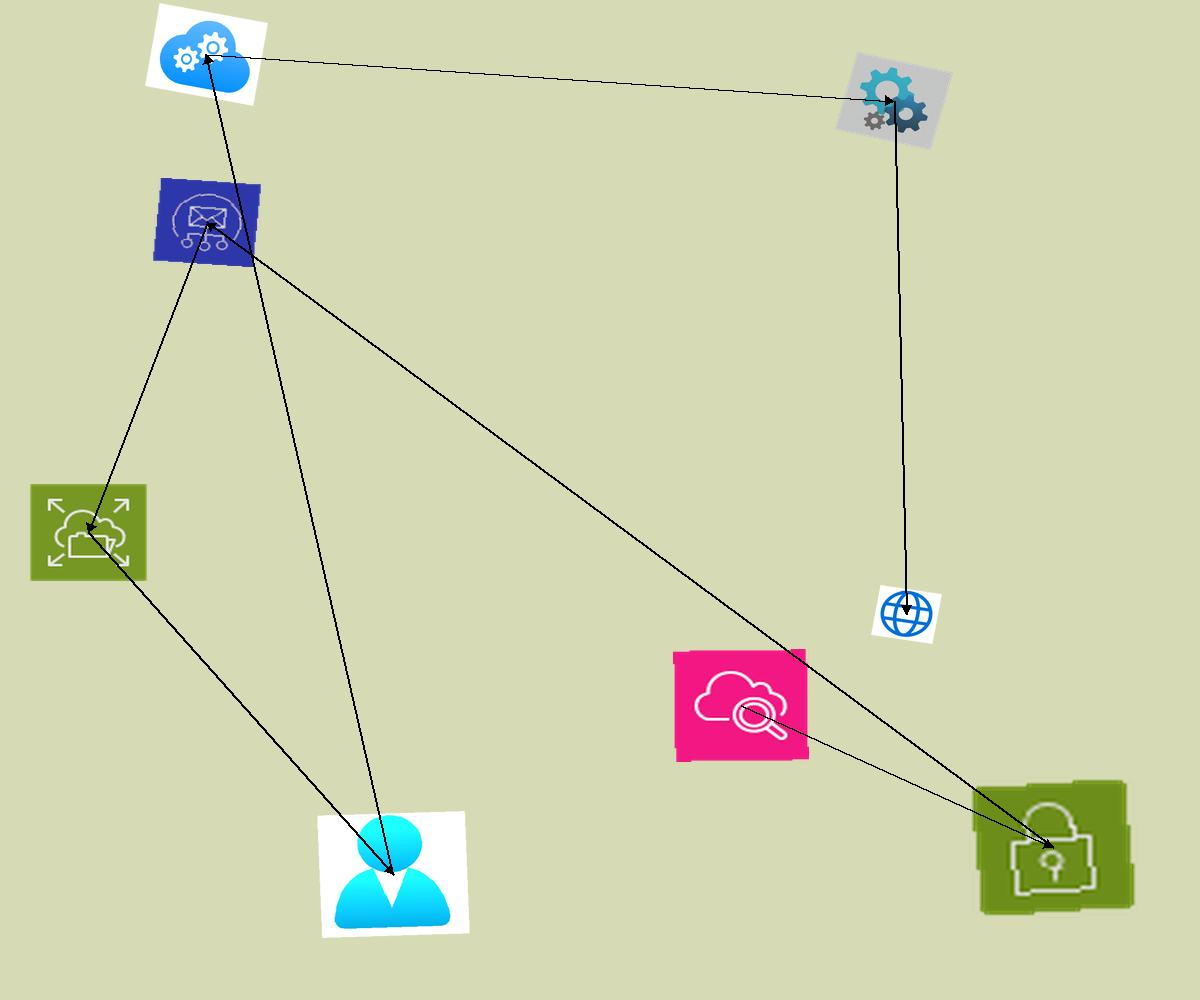AWS-CloudWatch: (673, 649, 809, 762)
AWS-EFS: (29, 483, 148, 582)
AWS-Public-subnet: (969, 777, 1138, 918)
AWS-Simple-Email-Service: (152, 177, 262, 268)
Azure_api: (835, 52, 953, 150)
Azure_cloud_services: (145, 3, 268, 106)
Azure_http: (871, 585, 942, 644)
Azure_users: (317, 811, 470, 938)
